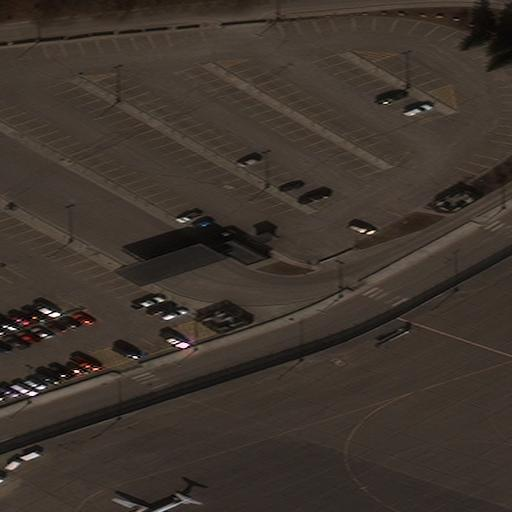Medium Civil Transport: (110, 496, 191, 512)
